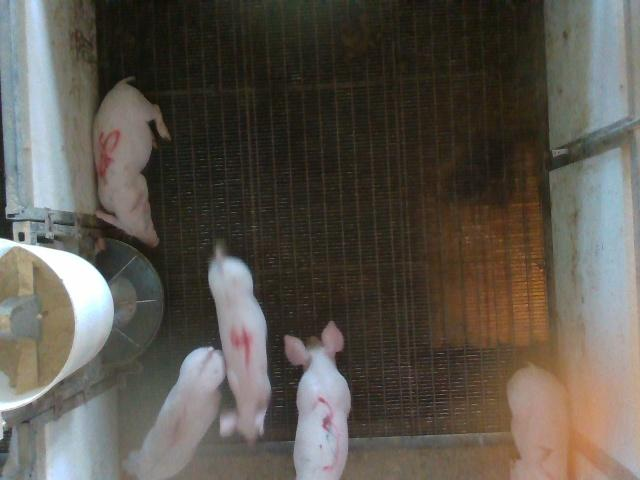pig-1: (122, 348, 225, 479)
pig-3: (285, 321, 351, 478)
pig-4: (209, 244, 271, 442)
pig-5: (94, 76, 170, 247)
